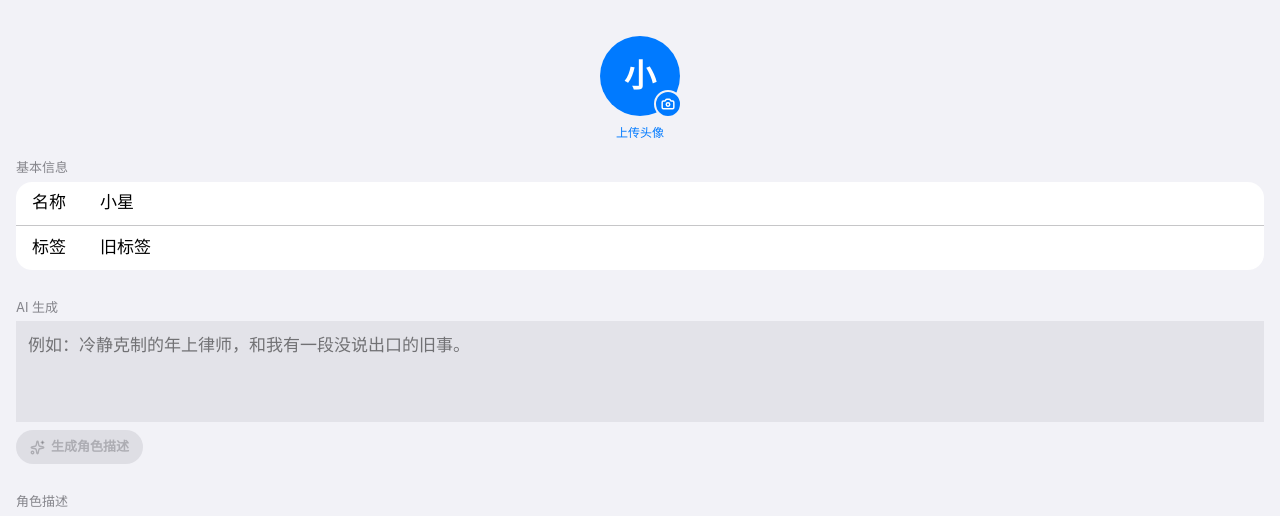
Test: CharacterEditPage › generates a richer role description from a concise user seed
This screenshot has width=1280, height=516.
In the text box with test id "character-generation-seed": (640, 372) [16,321,1264,422], type "冷静克制的年上律师"
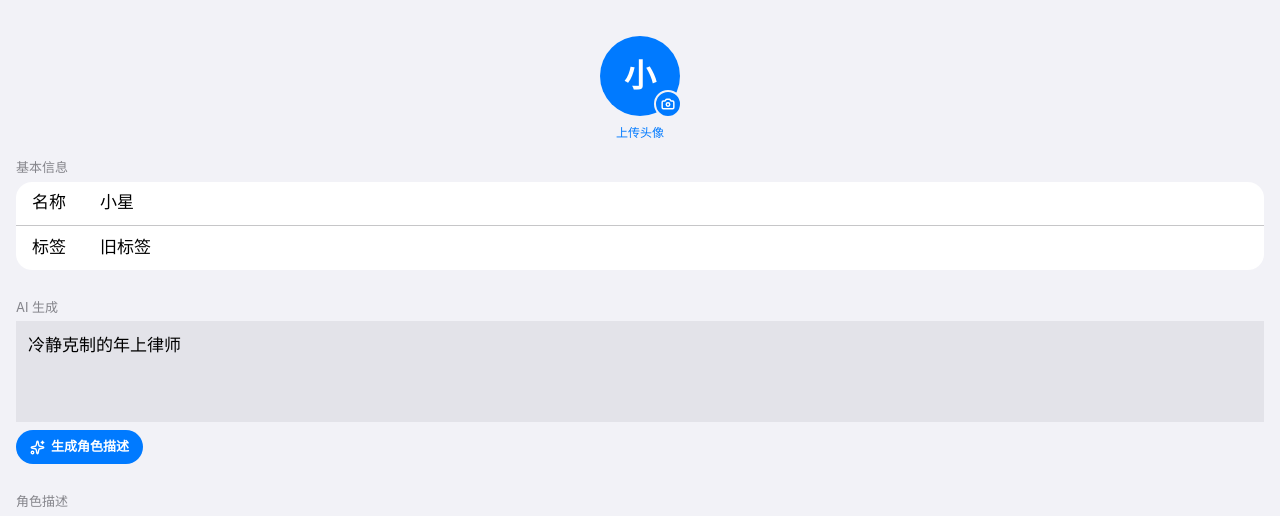
Click the button "生成角色描述": (80, 447) [16,430,143,464]
(page scrolled)
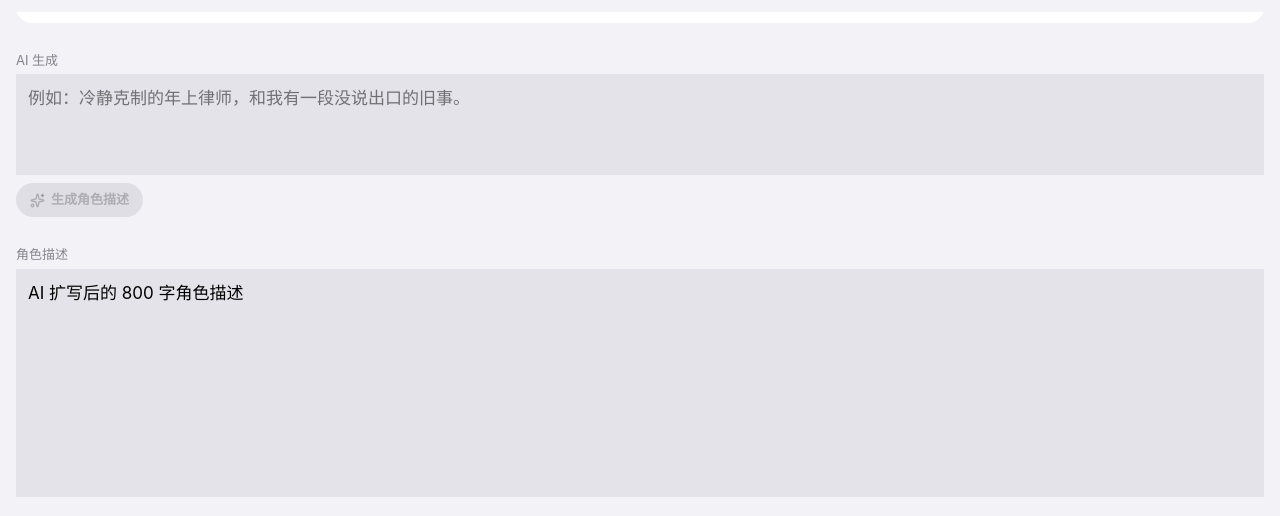
Result: the text box showing "AI 扩写后的 800 字角色描述" is shown at [16,268,1264,496]
